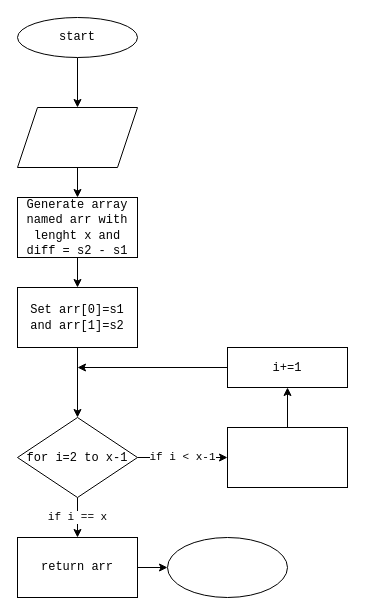
This 365x615 diagram has some shape labels left out. Each missing label, with the centre of its shape:
"finish" goes at [227,567].
"Get Input s1, s2, x integer" goes at [77,137].
"set arr[i] = arr[i-1] + diff" goes at [287,457].
